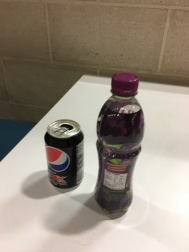bottle_purple: (83, 63, 160, 228)
can_black: (37, 113, 86, 194)
